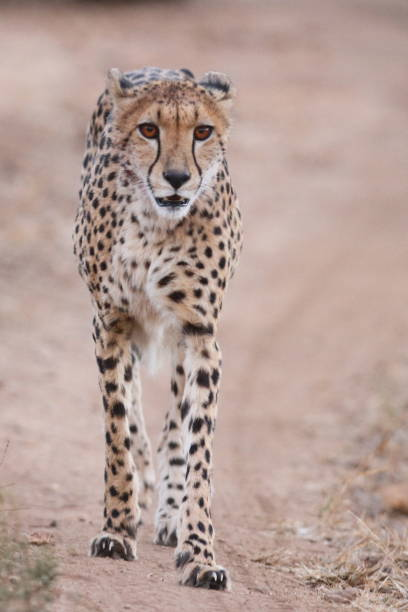cheetah: (100, 58, 239, 218)
